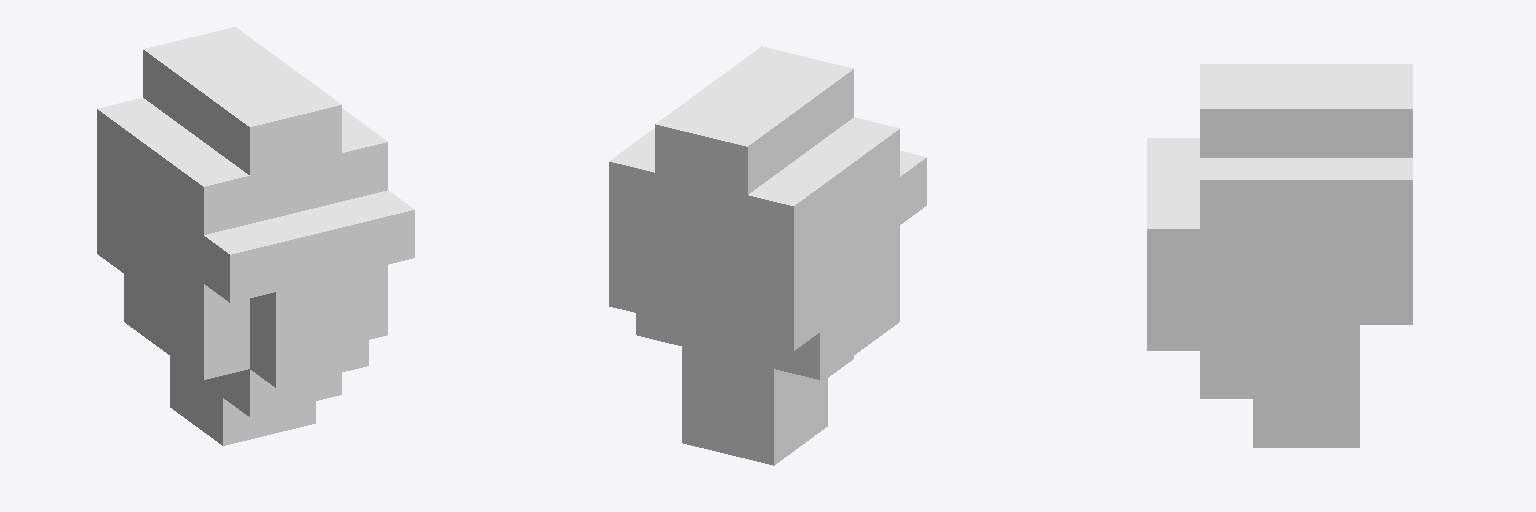
File: char-278-head_undercut.obj
3 renders of one model, left to right at view 1: azimuth 30°, elevation 25°; view 2: azimuth 150°, elevation 25°; view 3: azimuth 270°, elevation 25°, orthographic.
Visible parts, largest first — view 1: head_undercut; view 2: head_undercut; view 3: head_undercut.
Part boxes in pixels (bbox=[...]): head_undercut: bbox=[97, 27, 414, 445]; head_undercut: bbox=[609, 46, 926, 465]; head_undercut: bbox=[1147, 64, 1412, 447].
Size of the model in its own units: 0.4 by 0.7 by 0.5.